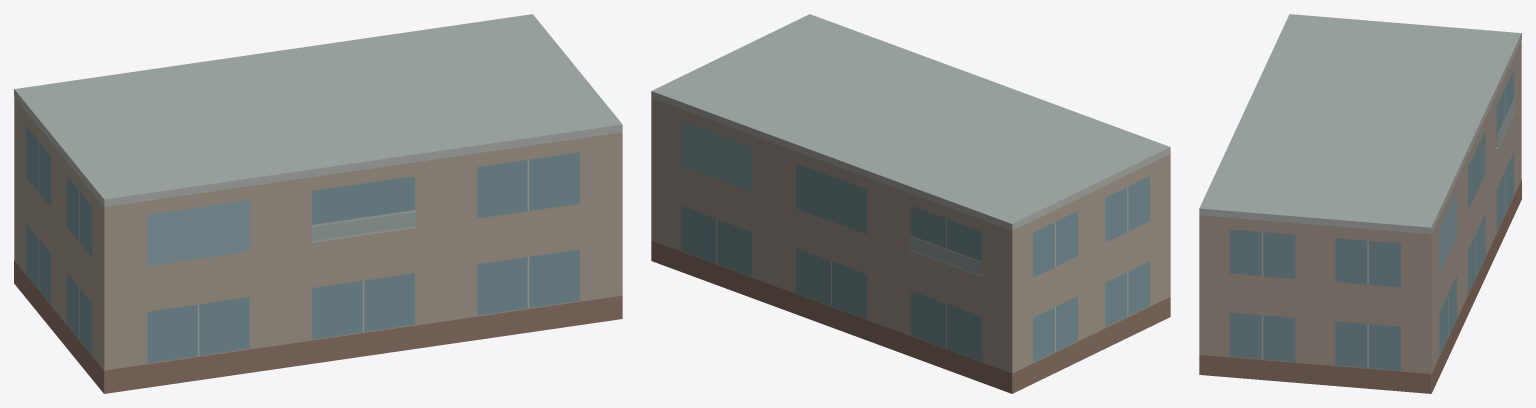
File: survey-upis-32599645.glb
The picture shows the model from 3 angles, left to right: view 1: azimuth 30°, elevation 25°; view 2: azimuth 150°, elevation 25°; view 3: azimuth 270°, elevation 25°; orthographic projection. The views are drawn at different scales.
Parts seen in each view (by area): view 1: survey-upis-32599645.tmp; view 2: survey-upis-32599645.tmp; view 3: survey-upis-32599645.tmp.
Part boxes in pixels (x1,y1,x2,y2): survey-upis-32599645.tmp: (14, 14, 622, 393); survey-upis-32599645.tmp: (651, 14, 1170, 393); survey-upis-32599645.tmp: (1199, 14, 1521, 393).
Size of the model in its own units: 16.81 by 6.1 by 10.73.
